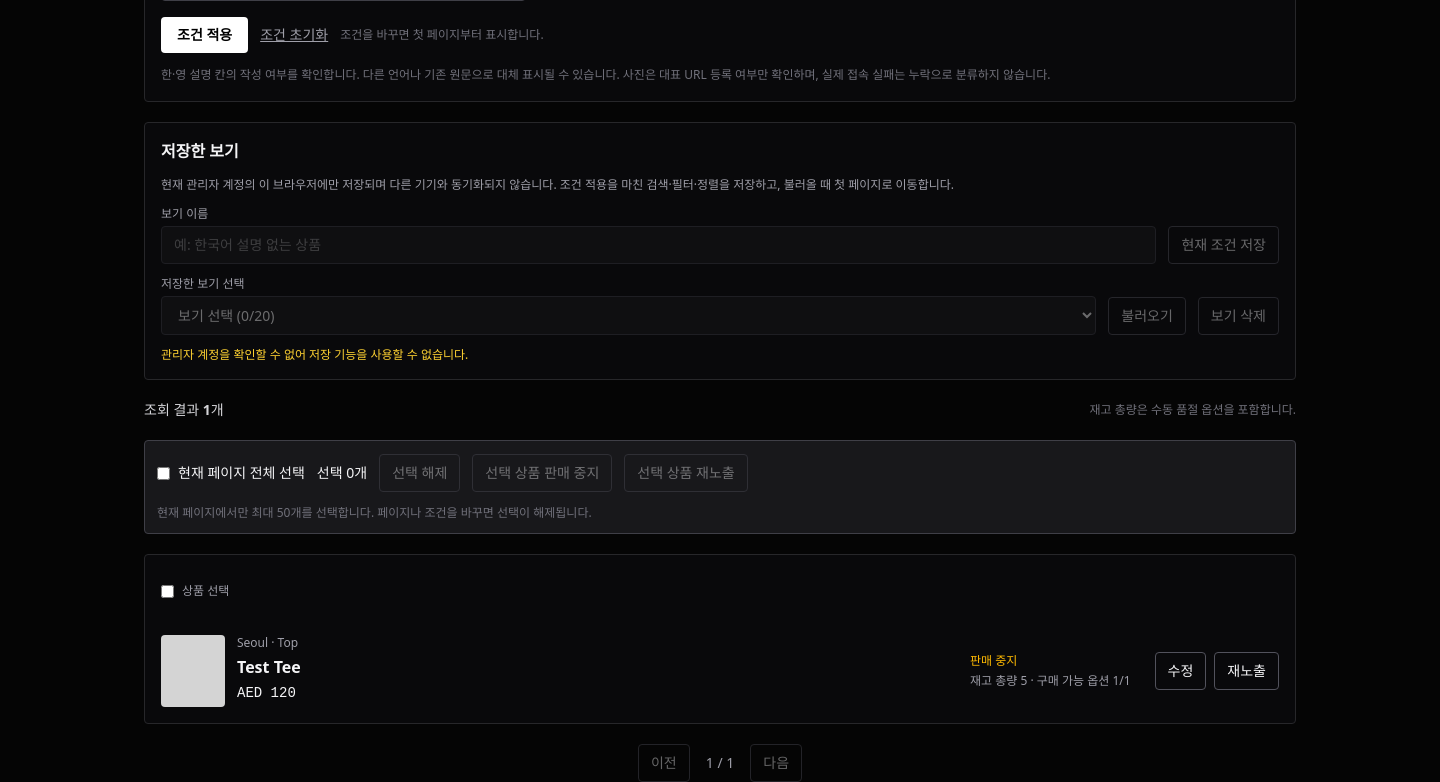
Test: admin product catalog workflow › keeps the product and releases the button when network fails
(page scrolled)
Click the button "재노출" at coordinates (1247, 671), box [1214,652,1279,690]
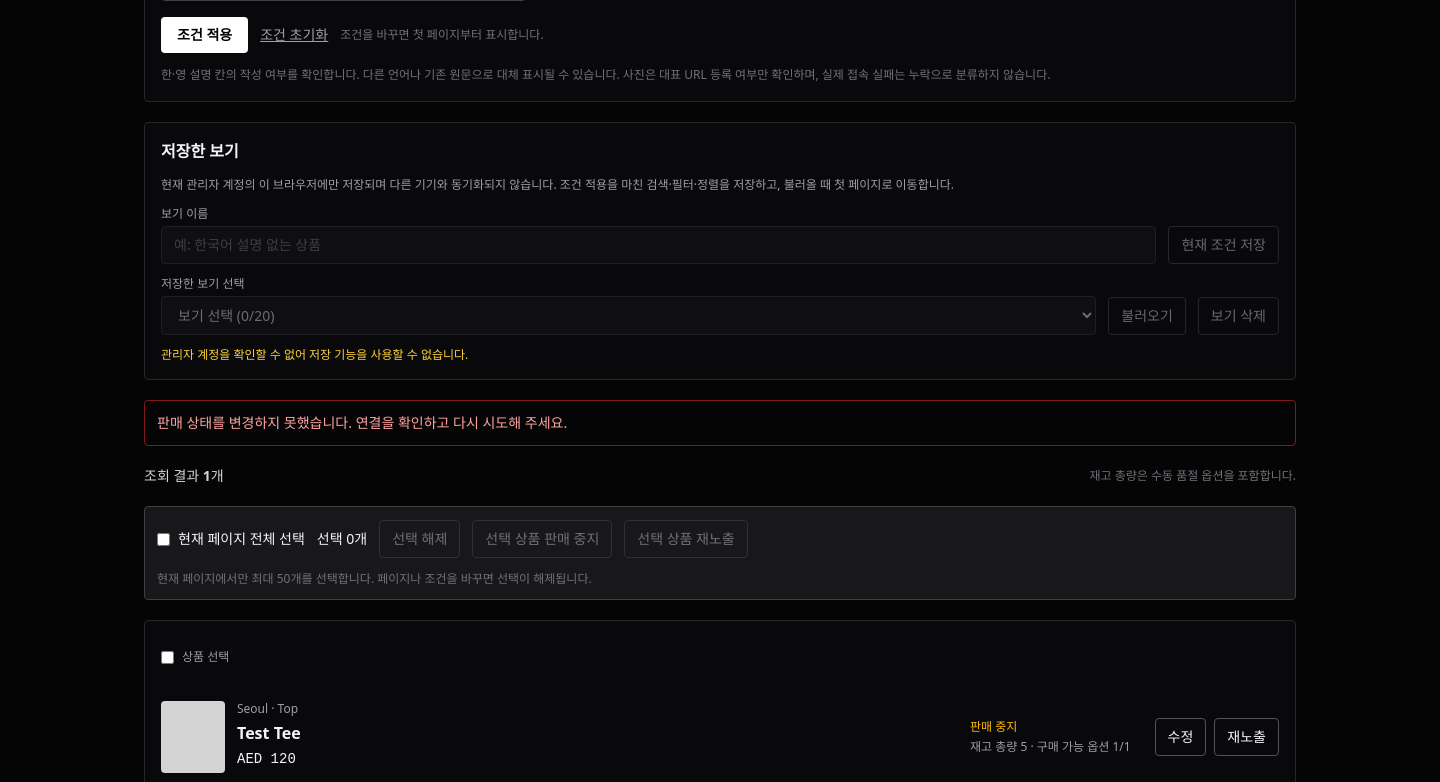
Expected: the heading "Test Tee" is shown, [237,721,301,745]
Expected: the message "판매 상태를 변경하지 못했습니다. 연결을 확인하고 다시 시도해 주세요." is shown, [144,400,1296,446]
